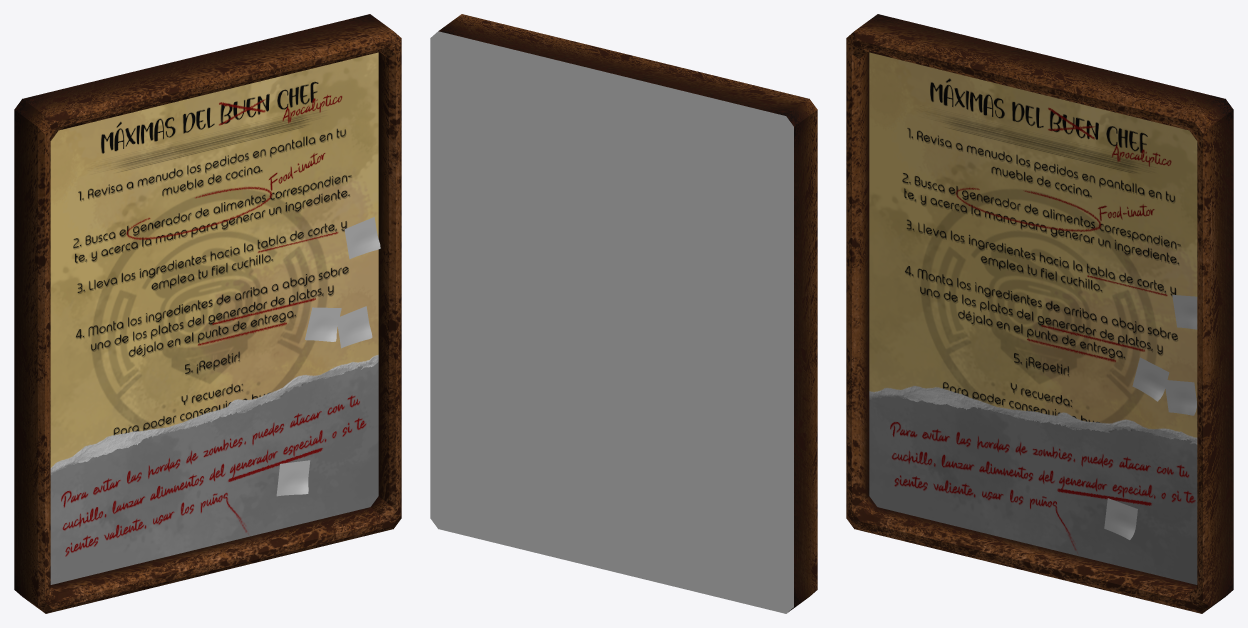
File: CartelInstrucciones.fbx
3 views of the same model, side by side, from view 1: azimuth 30°, elevation 25°; view 2: azimuth 150°, elevation 25°; view 3: azimuth 330°, elevation 25° (orthographic).
Visible parts, largest first — view 1: Cube, Plane.003, Plane, Plane.001, Plane.002; view 2: Cube; view 3: Cube, Plane.001, Plane.003, Plane.002, Plane.
Part boxes in pixels (x1,y1,x2,y2): Cube: (14, 14, 401, 613); Plane.003: (276, 460, 310, 496); Plane: (344, 217, 380, 259); Plane.001: (305, 307, 341, 341); Plane.002: (337, 306, 372, 348); Cube: (430, 14, 817, 613); Cube: (846, 14, 1233, 613); Plane.001: (1132, 357, 1169, 401); Plane.003: (1104, 498, 1137, 539); Plane.002: (1164, 380, 1196, 415); Plane: (1172, 295, 1197, 329).
Bounding box in the file's own units: 153 × 200 × 19.23.
